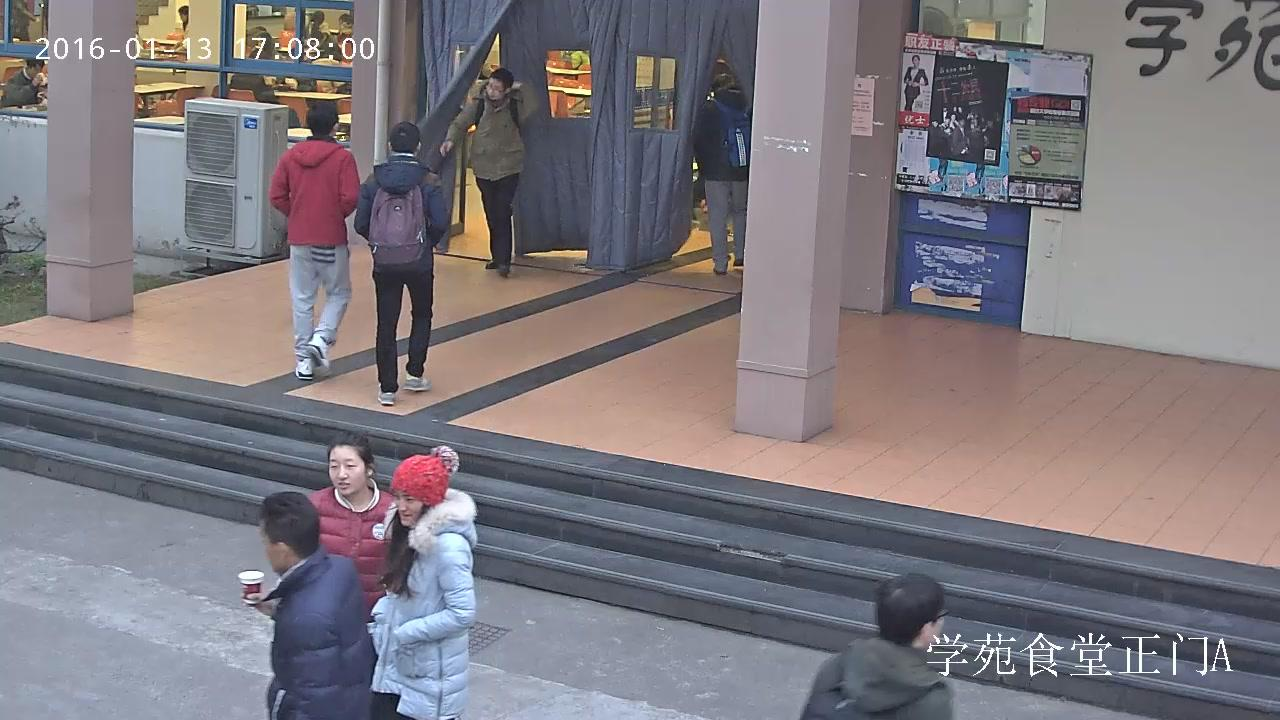person: (238, 491, 376, 720), (368, 445, 478, 720), (353, 120, 449, 406), (270, 100, 360, 380), (799, 573, 955, 720), (439, 68, 540, 276), (308, 431, 399, 628), (691, 73, 751, 275), (229, 48, 302, 129), (0, 56, 47, 113), (904, 55, 929, 111)
